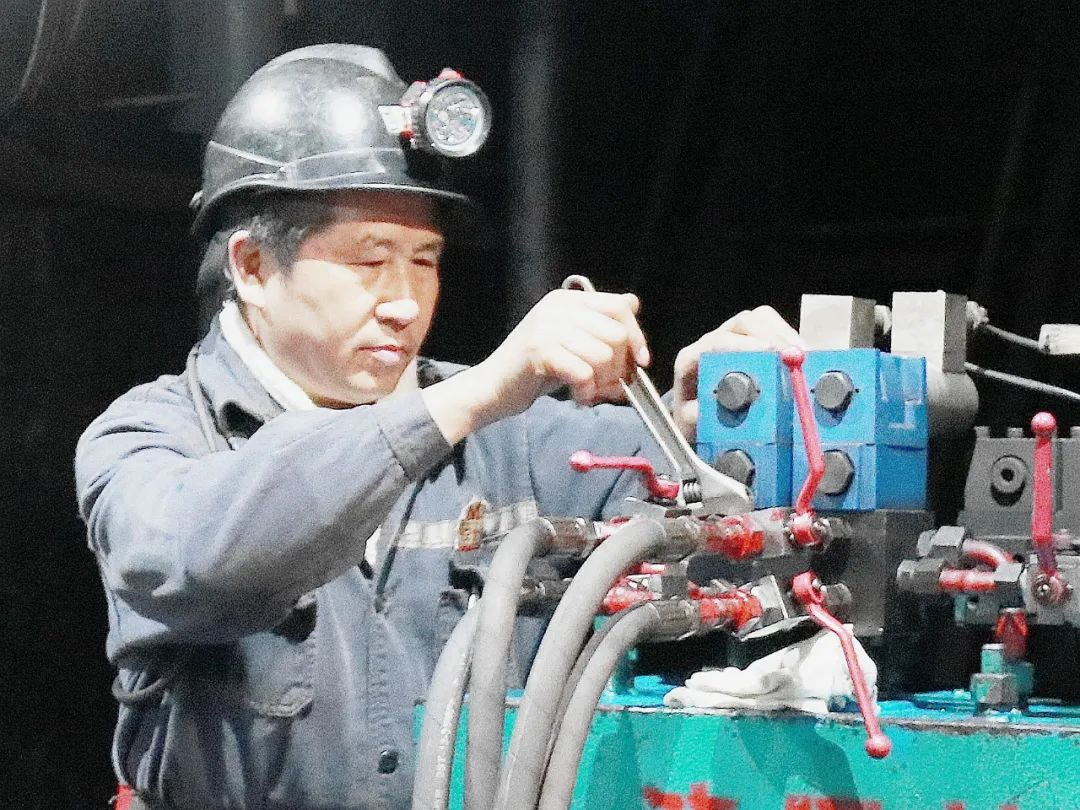helmet: (179, 36, 487, 400)
